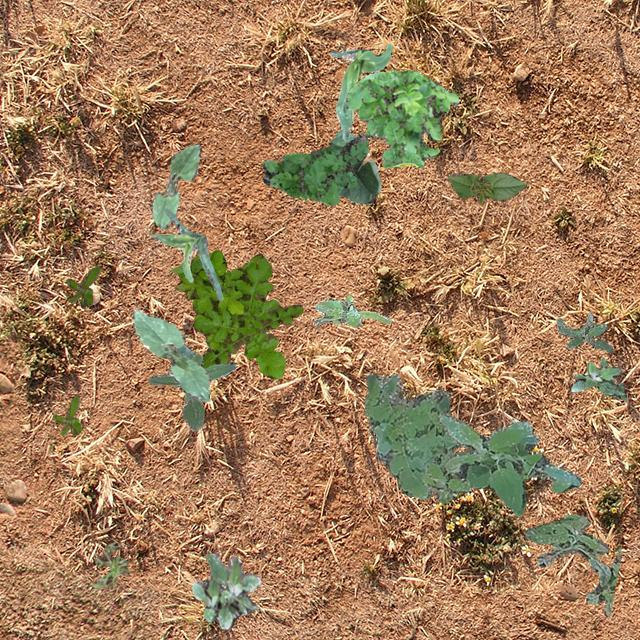crop: (130, 308, 210, 401), (150, 208, 222, 300), (328, 42, 391, 140), (152, 144, 200, 228), (329, 130, 379, 203), (448, 172, 526, 204)
weed: (170, 248, 302, 378), (420, 412, 580, 516), (364, 372, 459, 498), (344, 68, 458, 166), (524, 512, 620, 616), (148, 342, 235, 430), (262, 132, 368, 204), (190, 552, 260, 628), (312, 294, 390, 326), (571, 356, 625, 399), (556, 312, 612, 352), (92, 540, 130, 588), (66, 264, 100, 306), (51, 394, 80, 434)
